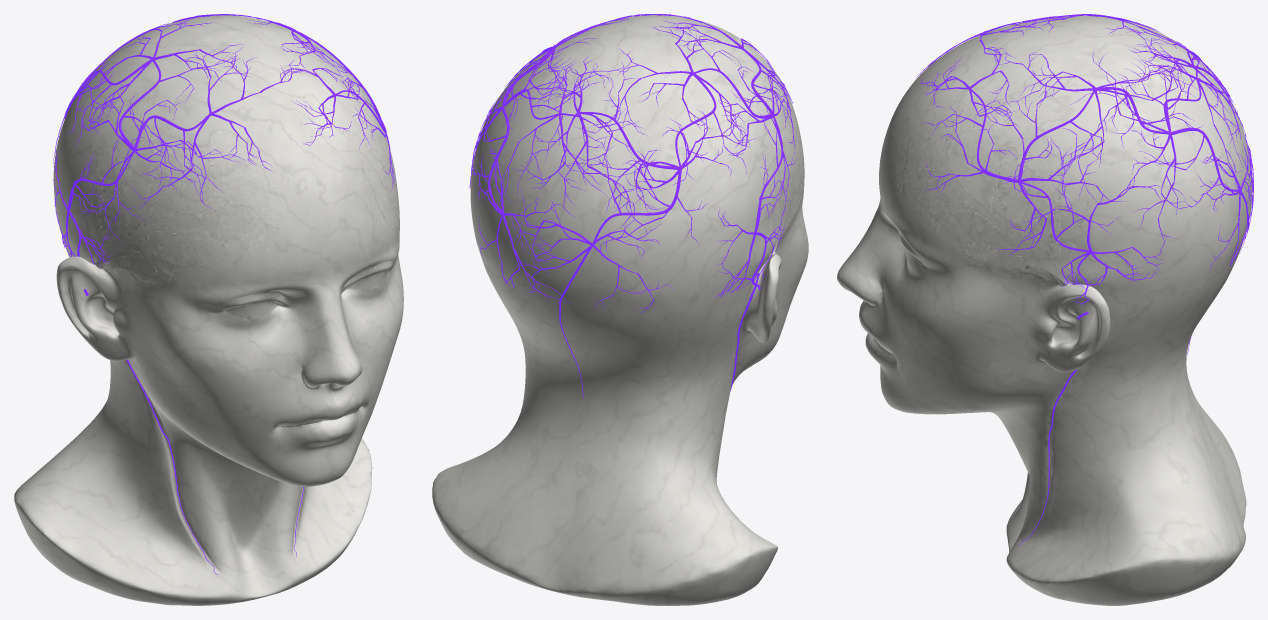
Rendered from cymba-neural-mannequin-organic-detailed.glb.
3 views of the same model, side by side, from view 1: azimuth 30°, elevation 25°; view 2: azimuth 150°, elevation 25°; view 3: azimuth 270°, elevation 25° (orthographic). The views are drawn at different scales.
Parts seen in each view (by area): view 1: Cymba_Marble_Mannequin, Purple_Surface_Nerve_Fibres; view 2: Cymba_Marble_Mannequin, Purple_Surface_Nerve_Fibres; view 3: Cymba_Marble_Mannequin, Purple_Surface_Nerve_Fibres.
Part boxes in pixels (x1=…): Cymba_Marble_Mannequin: x1=14, y1=15, x2=403, y2=605; Purple_Surface_Nerve_Fibres: x1=53, y1=14, x2=395, y2=574; Cymba_Marble_Mannequin: x1=432, y1=15, x2=808, y2=605; Purple_Surface_Nerve_Fibres: x1=469, y1=14, x2=796, y2=398; Cymba_Marble_Mannequin: x1=837, y1=16, x2=1252, y2=605; Purple_Surface_Nerve_Fibres: x1=915, y1=14, x2=1253, y2=545.
Size of the model in its own units: 2.74 by 4.27 by 3.06.
Materials: 2 (1 with a texture image).
